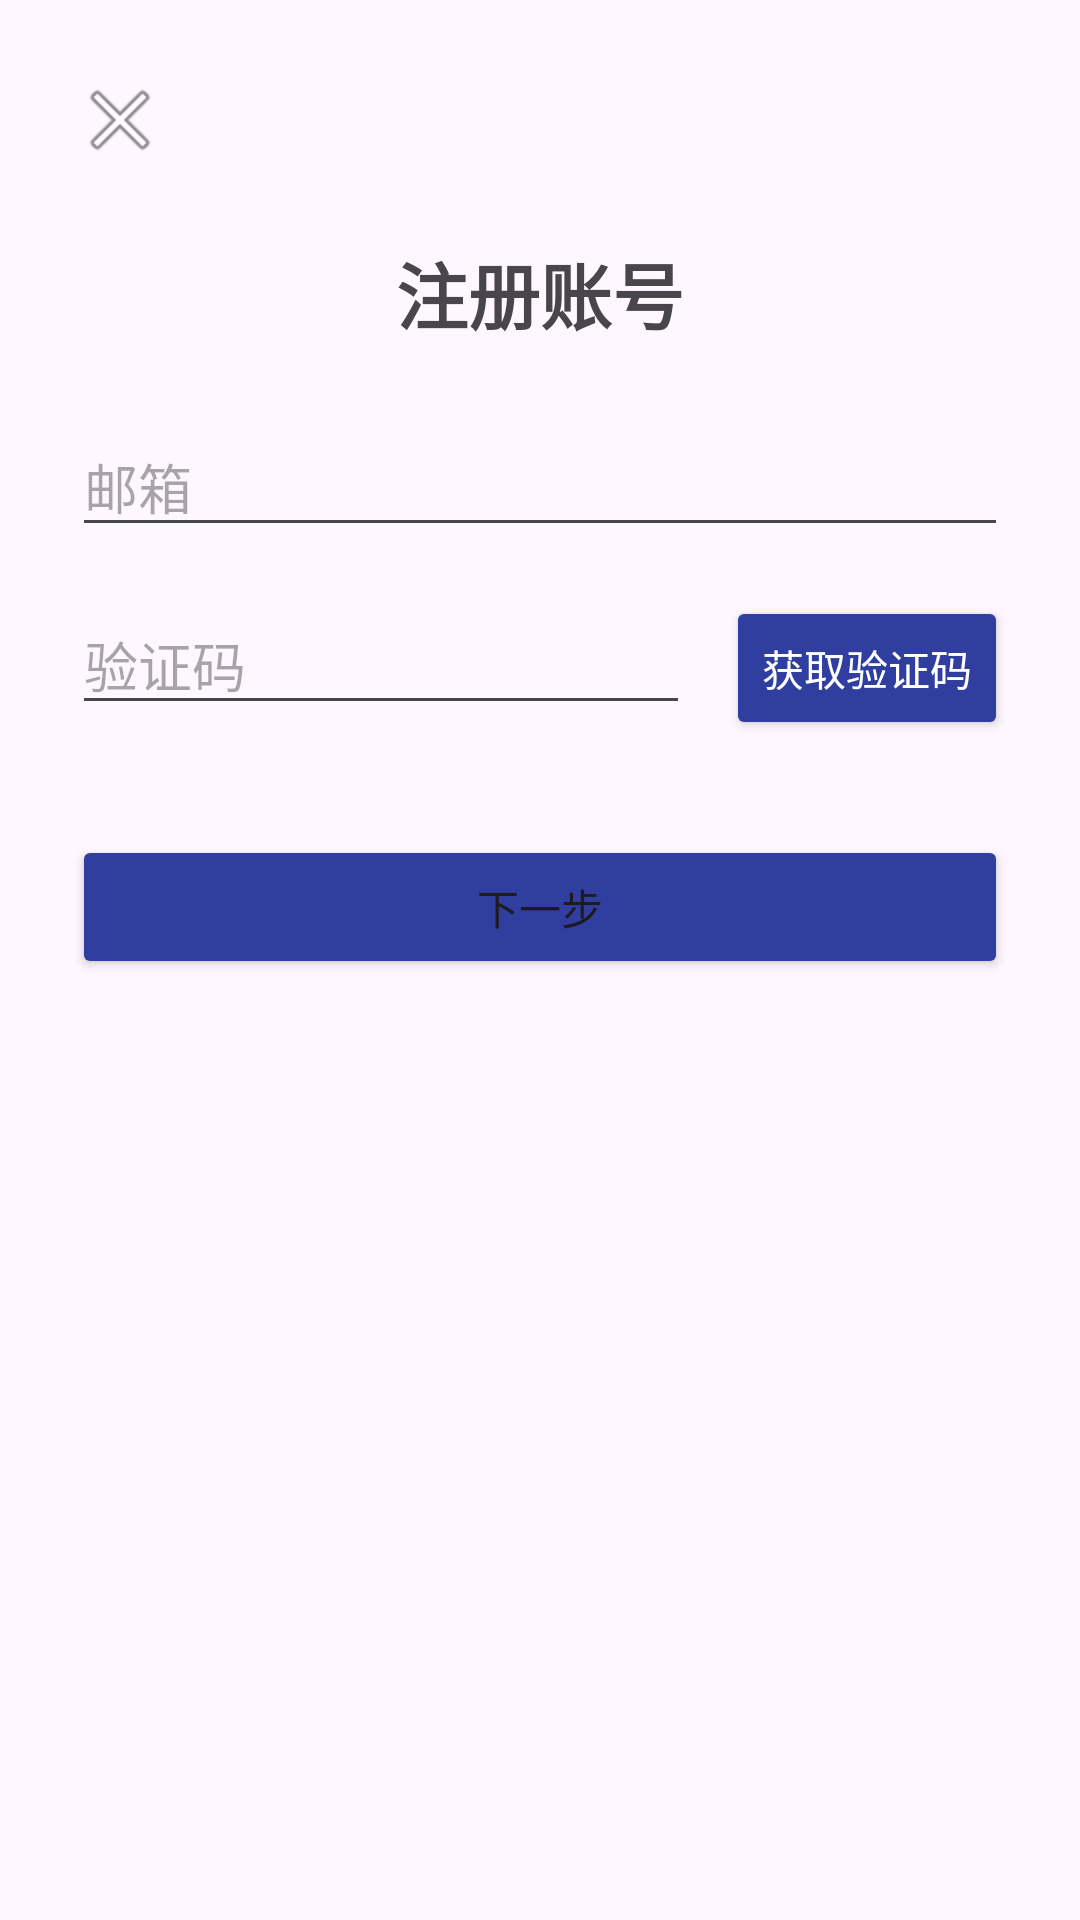

Icon bounding boxes for this 1080px×1920px phone screenshot, format (x1, y1, x2, y2):
close clear cancel: (90, 90, 150, 150)
